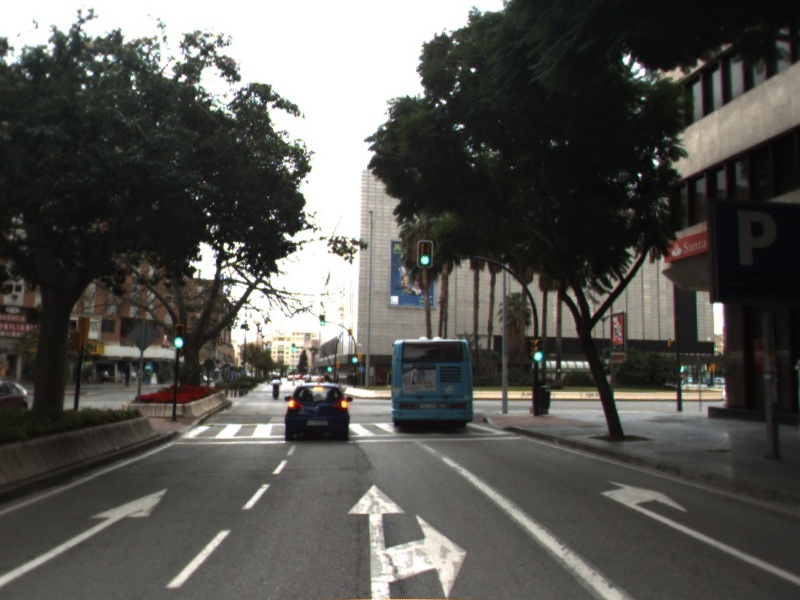RIGHT: (597, 477, 800, 585)
STRAIGHT: (1, 485, 171, 587)
STRAIGHT_RIGHT: (343, 481, 471, 600)
